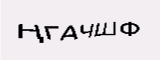Г: (83, 18, 96, 38)
Е: (44, 21, 53, 39)
Л: (65, 19, 82, 38)
Т: (53, 21, 69, 38)
Ш: (95, 19, 122, 36)
